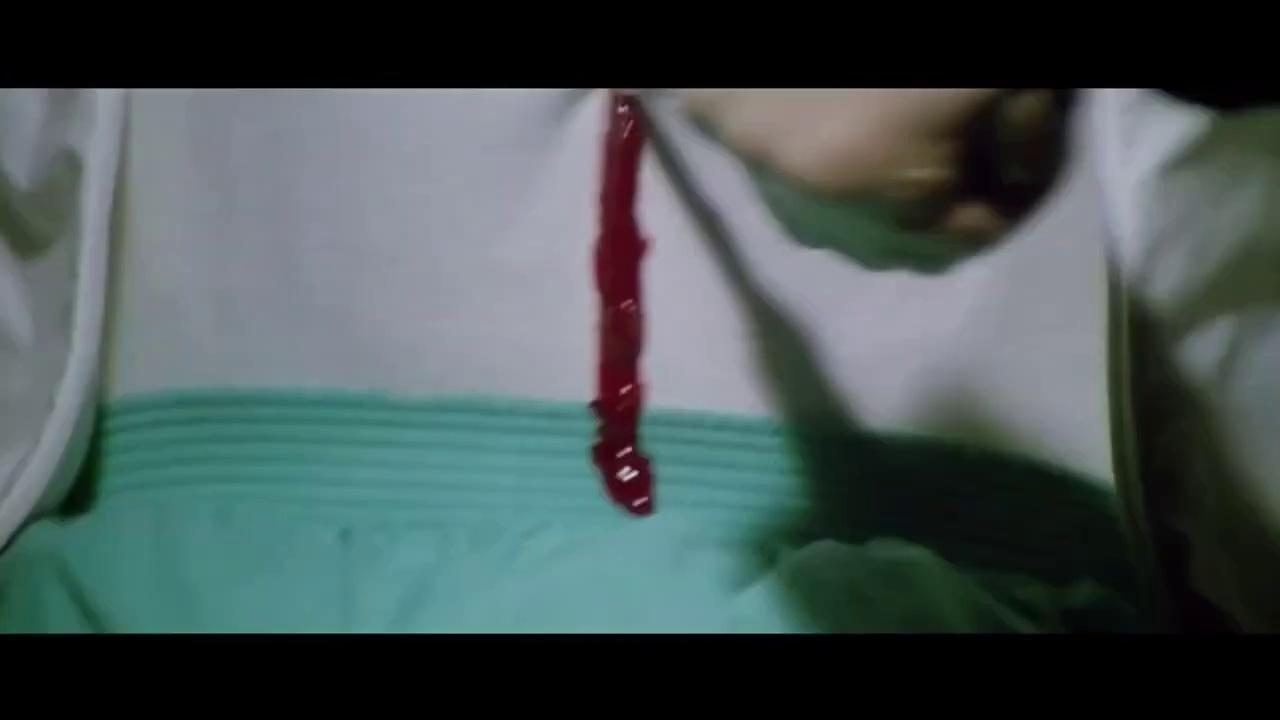Fire: (592, 91, 654, 514)
